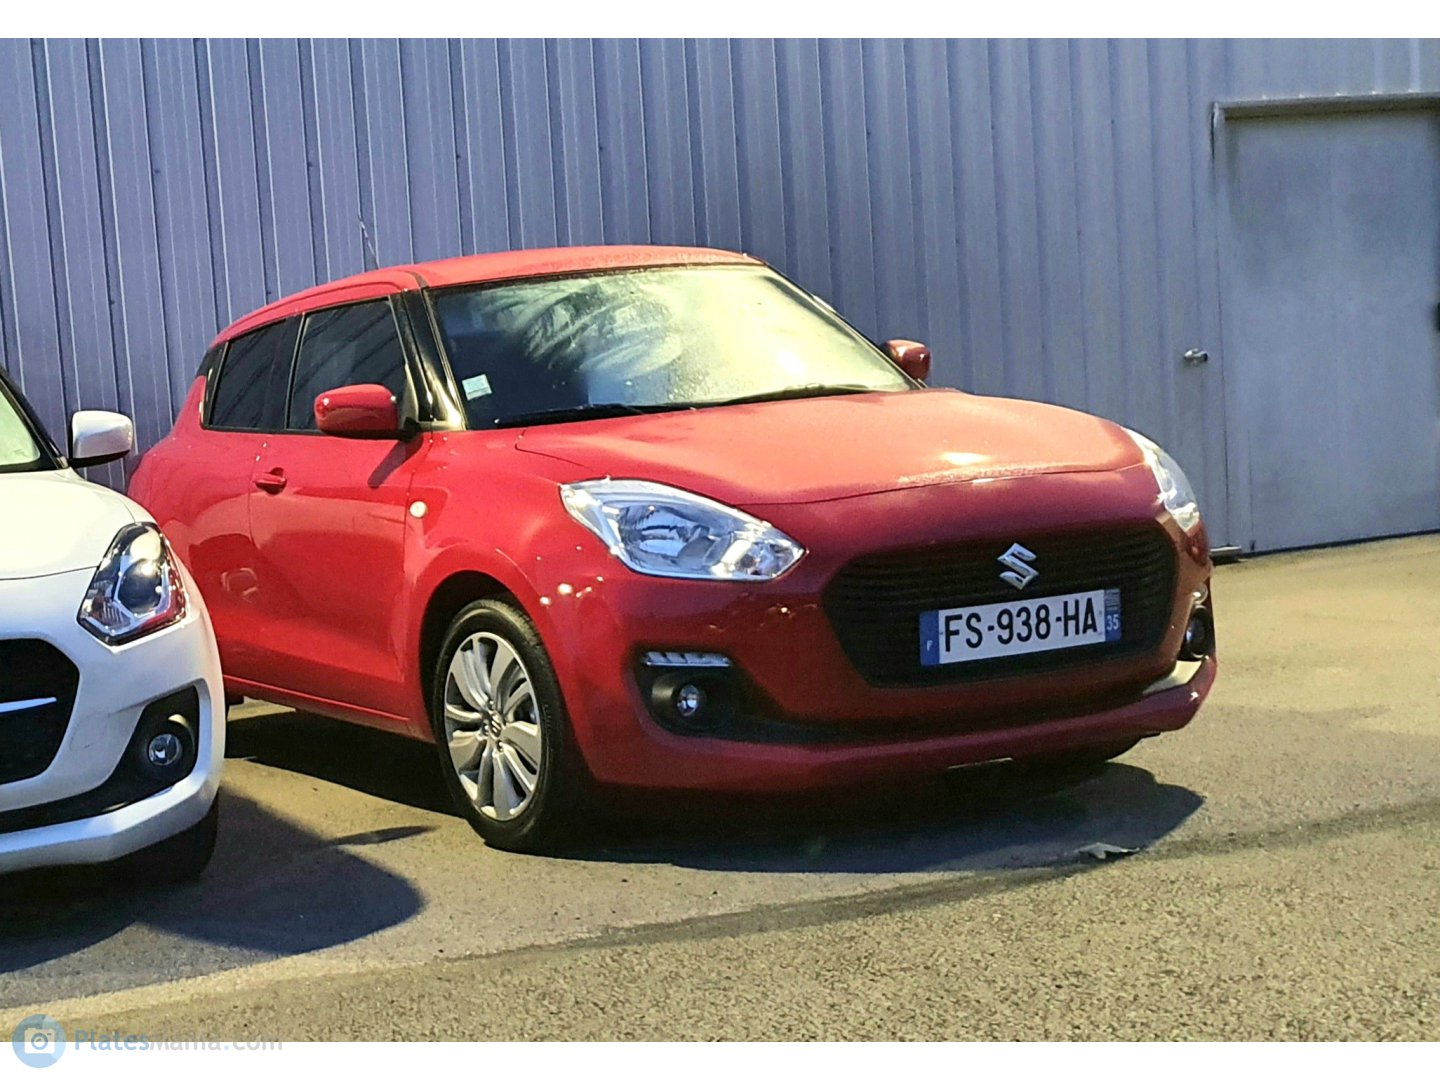licence plate: (915, 580, 1135, 673)
